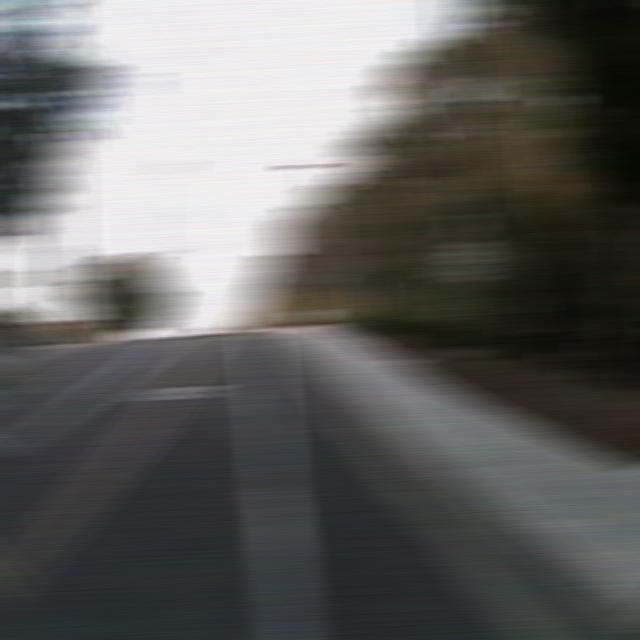speedLimit35: (447, 239, 490, 281)
